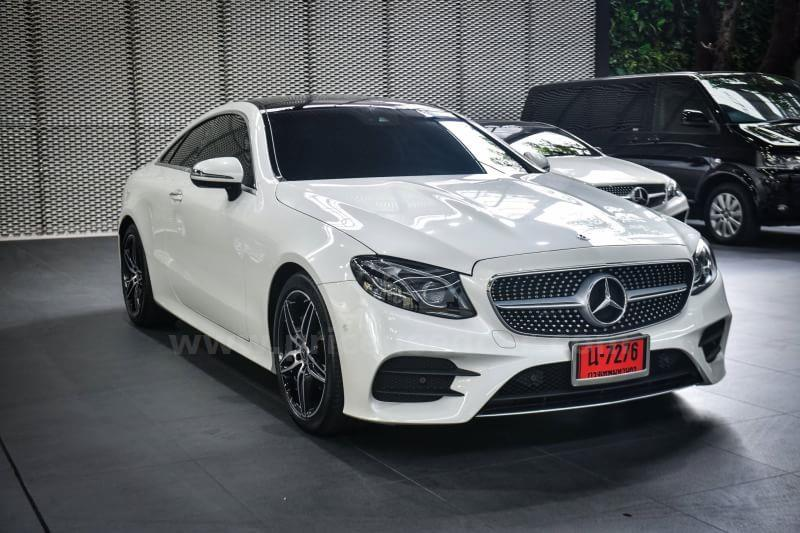sedan: (112, 90, 733, 443)
